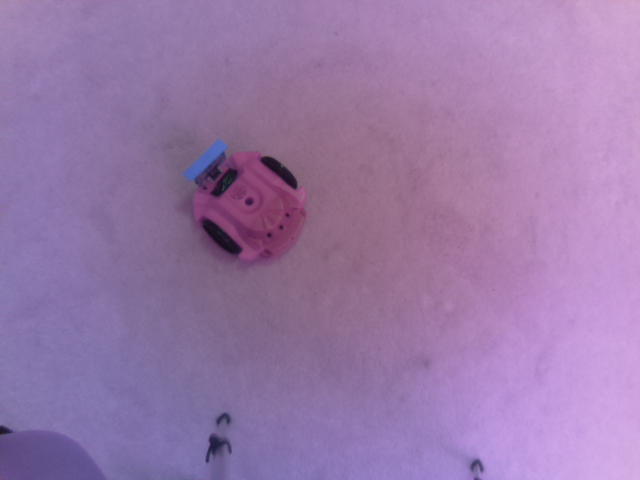board: (182, 134, 227, 187)
chassis: (181, 133, 312, 266)
